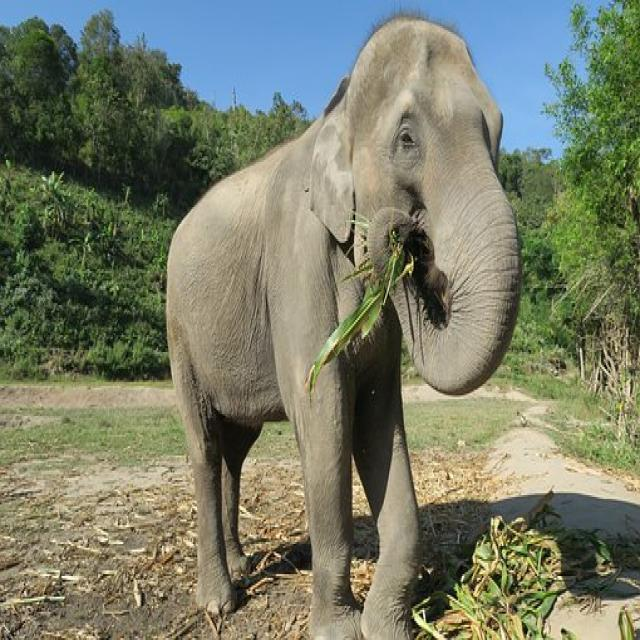Elephant: (160, 5, 522, 640)
